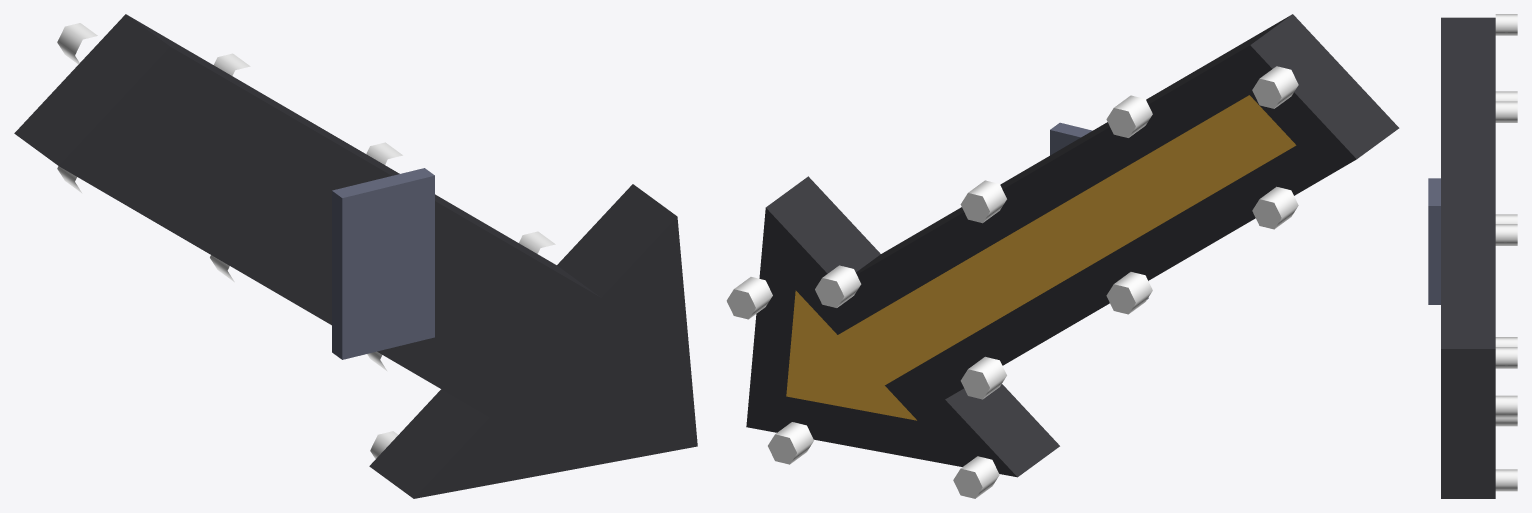
Rendered from enseigne-neon-fleche.glb.
The picture shows the model from 3 angles, left to right: view 1: azimuth 30°, elevation 25°; view 2: azimuth 150°, elevation 25°; view 3: azimuth 270°, elevation 25°; orthographic projection. The views are drawn at different scales.
Parts seen in each view (by area): view 1: enseigne-neon-fleche; view 2: enseigne-neon-fleche, enseigne-neon-fleche-lumiere; view 3: enseigne-neon-fleche.
Part boxes in pixels (box(x1,y1,x2,y2)): enseigne-neon-fleche: box(14, 14, 697, 498); enseigne-neon-fleche: box(726, 14, 1399, 498); enseigne-neon-fleche-lumiere: box(786, 95, 1296, 420); enseigne-neon-fleche: box(1428, 14, 1517, 498).
Bounding box in the file's own units: 2.49 × 2 × 0.49.
Materials: 2 (2 with a texture image).
